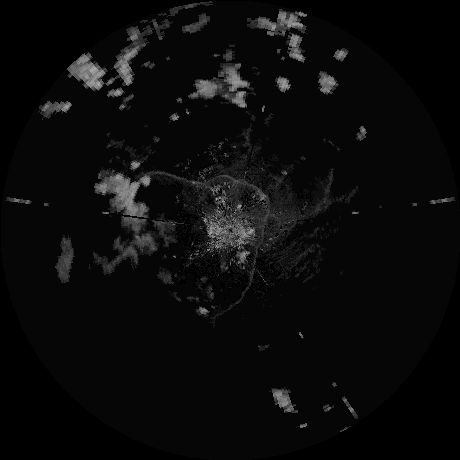frontgust: (250, 185, 273, 265), (218, 269, 253, 319)
